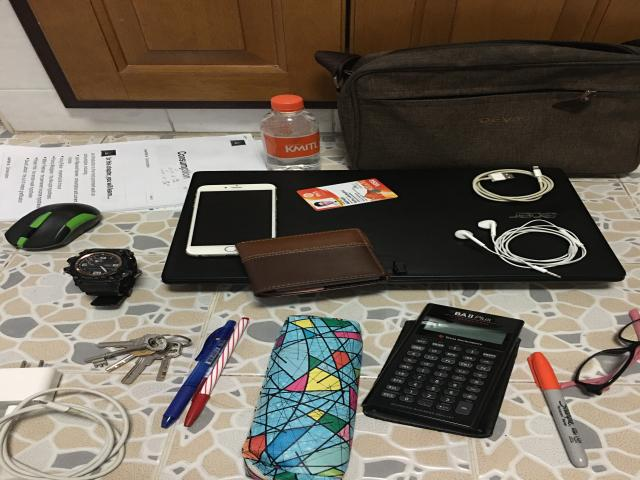Glasses: (562, 308, 640, 395)
Keys: (85, 334, 192, 384)
Mobile phone: (186, 184, 278, 257)
Mouse: (5, 202, 100, 250)
Pen: (162, 318, 248, 428), (528, 352, 588, 468)
Wallet: (237, 228, 390, 297)
Watch: (63, 248, 142, 307)
bottle: (260, 95, 320, 171)
paper: (0, 134, 291, 222)
wire: (0, 361, 130, 480), (455, 219, 587, 278), (473, 166, 553, 202)
